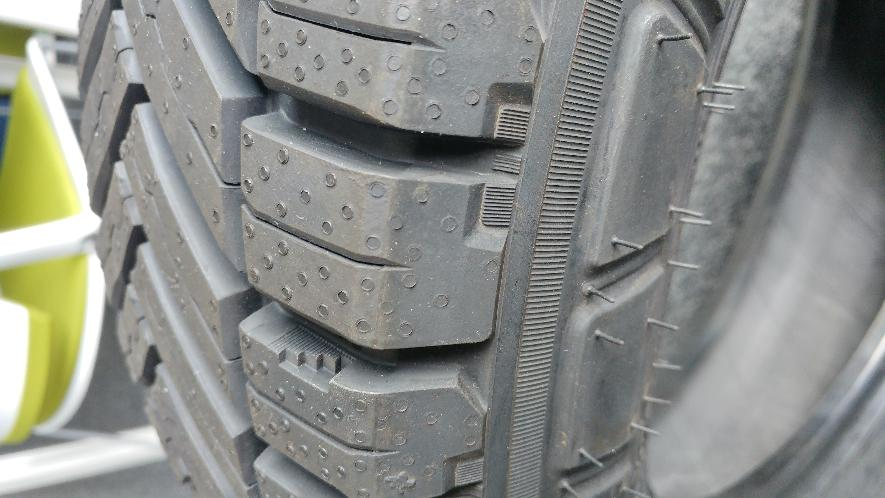temoin:100: (266, 325, 360, 395)
